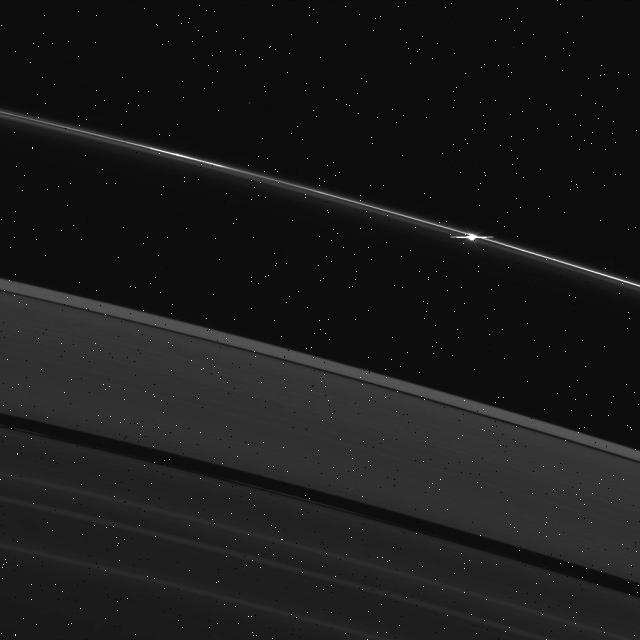Saturn: (0, 94, 640, 640)
